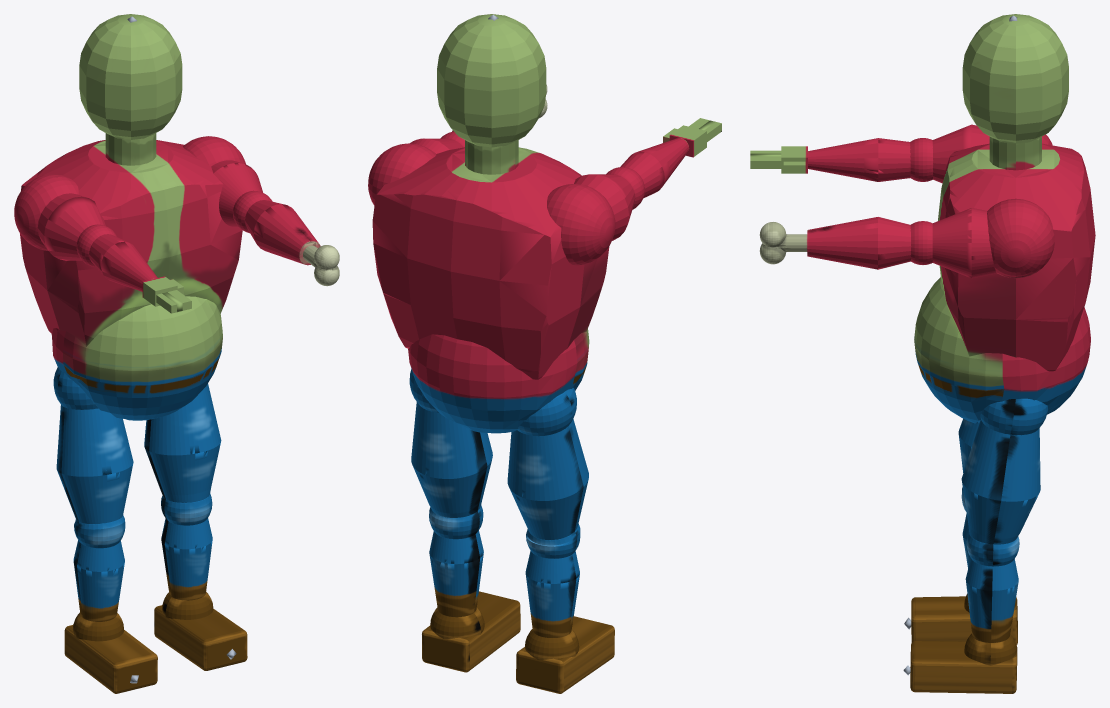
The model's file is Zombie Base (Basic Animation OBJ).obj.
The picture shows the model from 3 angles, left to right: view 1: azimuth 30°, elevation 25°; view 2: azimuth 150°, elevation 25°; view 3: azimuth 270°, elevation 25°; orthographic projection. The views are drawn at different scales.
Visible parts, largest first — view 1: Zombie; view 2: Zombie; view 3: Zombie.
Boxes of the visible parts, x1=… form: Zombie: x1=14, y1=14, x2=339, y2=693; Zombie: x1=368, y1=14, x2=721, y2=693; Zombie: x1=750, y1=14, x2=1095, y2=693.
Bounding box in the file's own units: 30 × 80.53 × 39.
